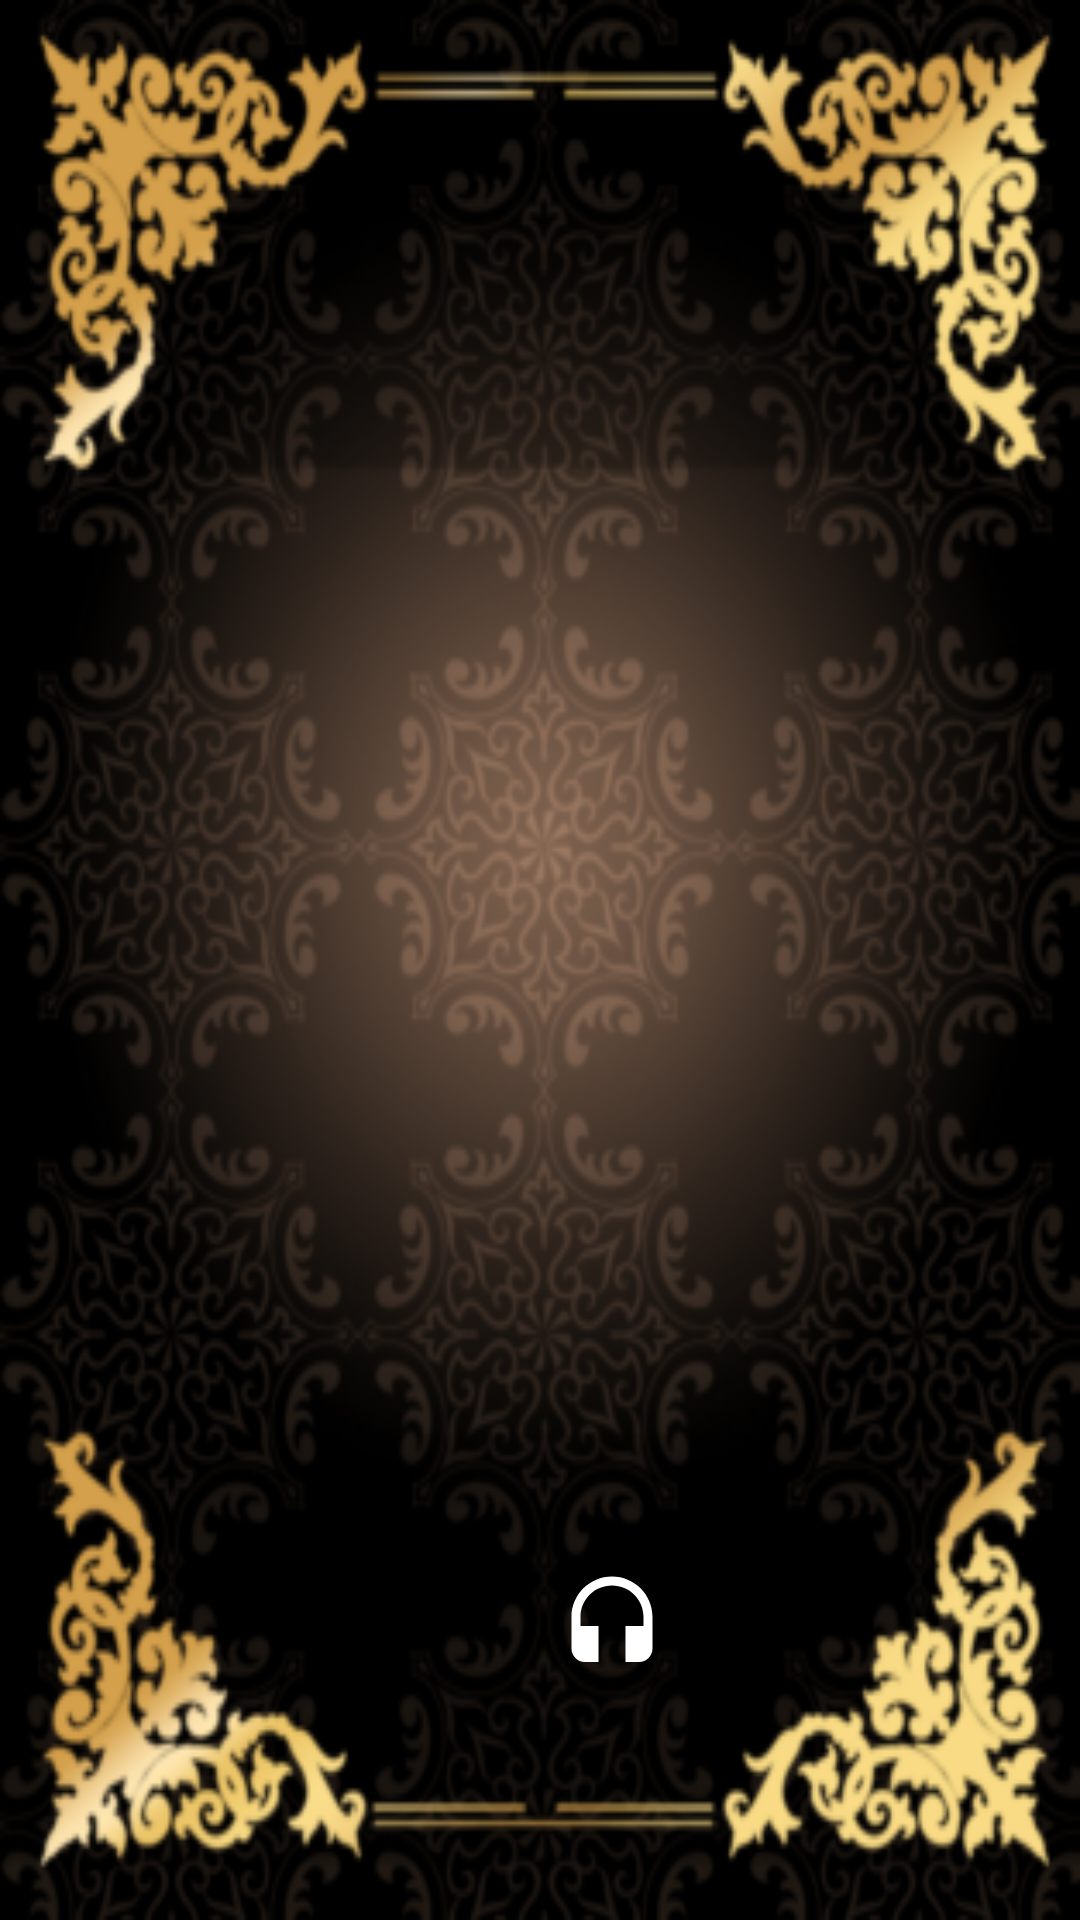

Locate icon controls on the screen. Image size 1080x1920, boxes as bbox=[x1, y1, x2, y2].
headset: bbox=[569, 1576, 653, 1671]
